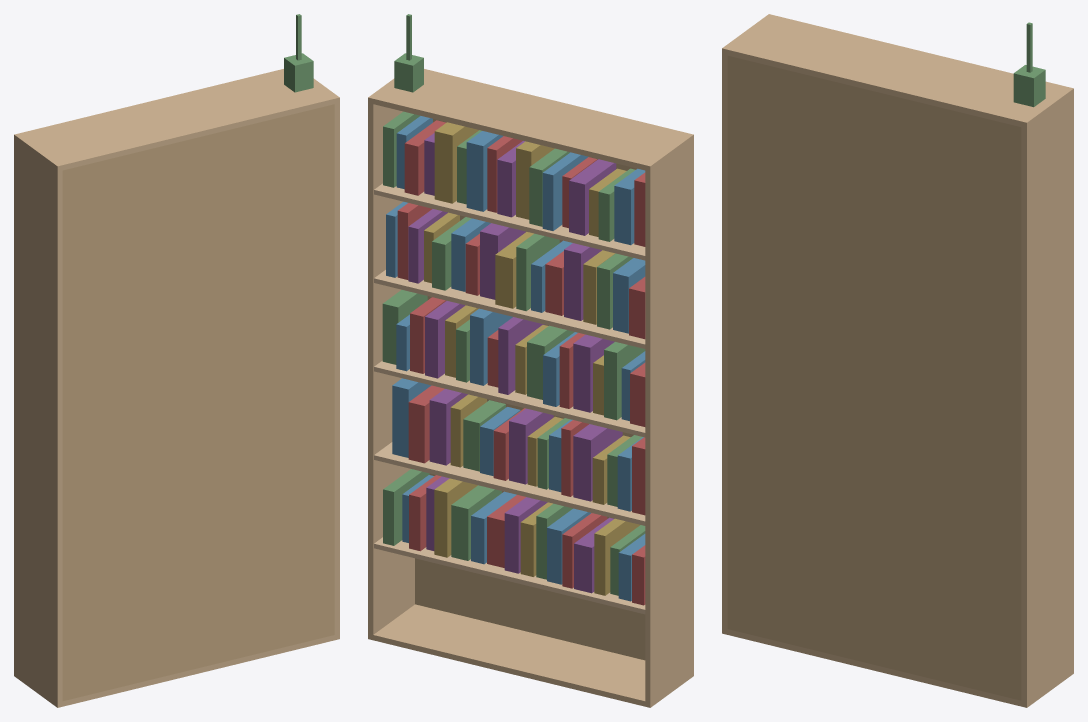
The model's file is shelves.glb.
The picture shows the model from 3 angles, left to right: view 1: azimuth 30°, elevation 25°; view 2: azimuth 150°, elevation 25°; view 3: azimuth 330°, elevation 25°; orthographic projection. The views are drawn at different scales.
Parts seen in each view (by area): view 1: Shelves; view 2: Shelves; view 3: Shelves.
Part boxes in pixels (x1,y1,x2,y2): Shelves: (14, 14, 339, 707); Shelves: (368, 14, 693, 707); Shelves: (722, 14, 1073, 707).
Bounding box in the file's own units: 1.2 × 2.49 × 0.32.
